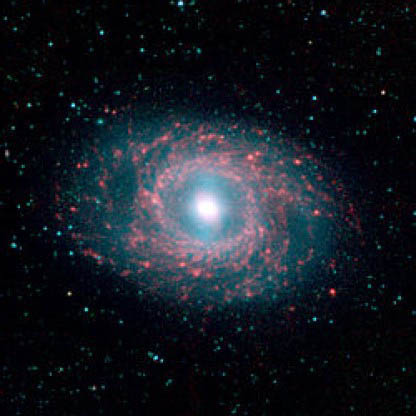Messier 95: (51, 99, 359, 322)
